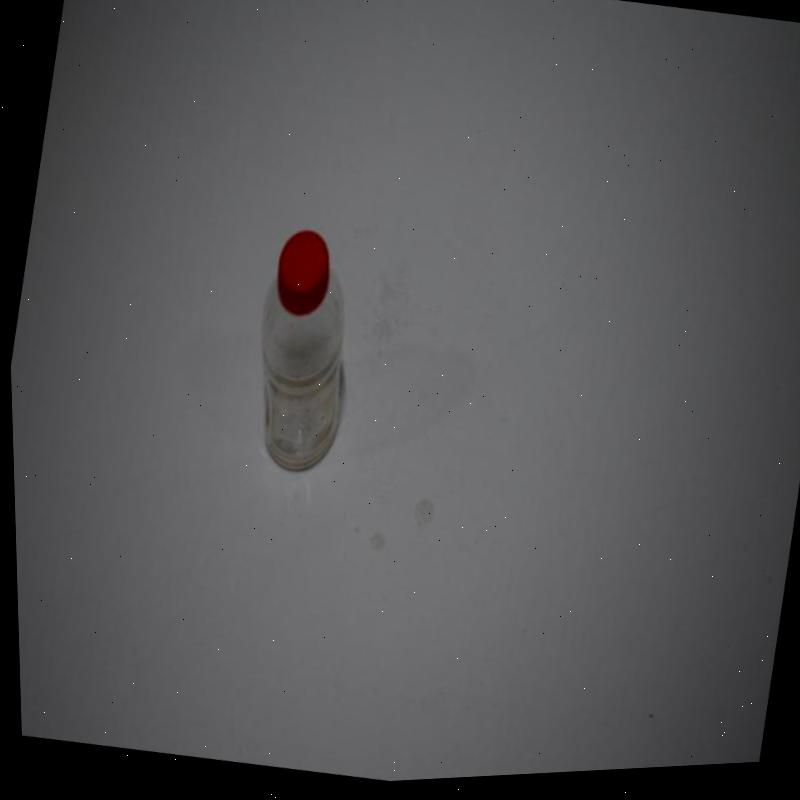botella: (232, 223, 373, 487)
